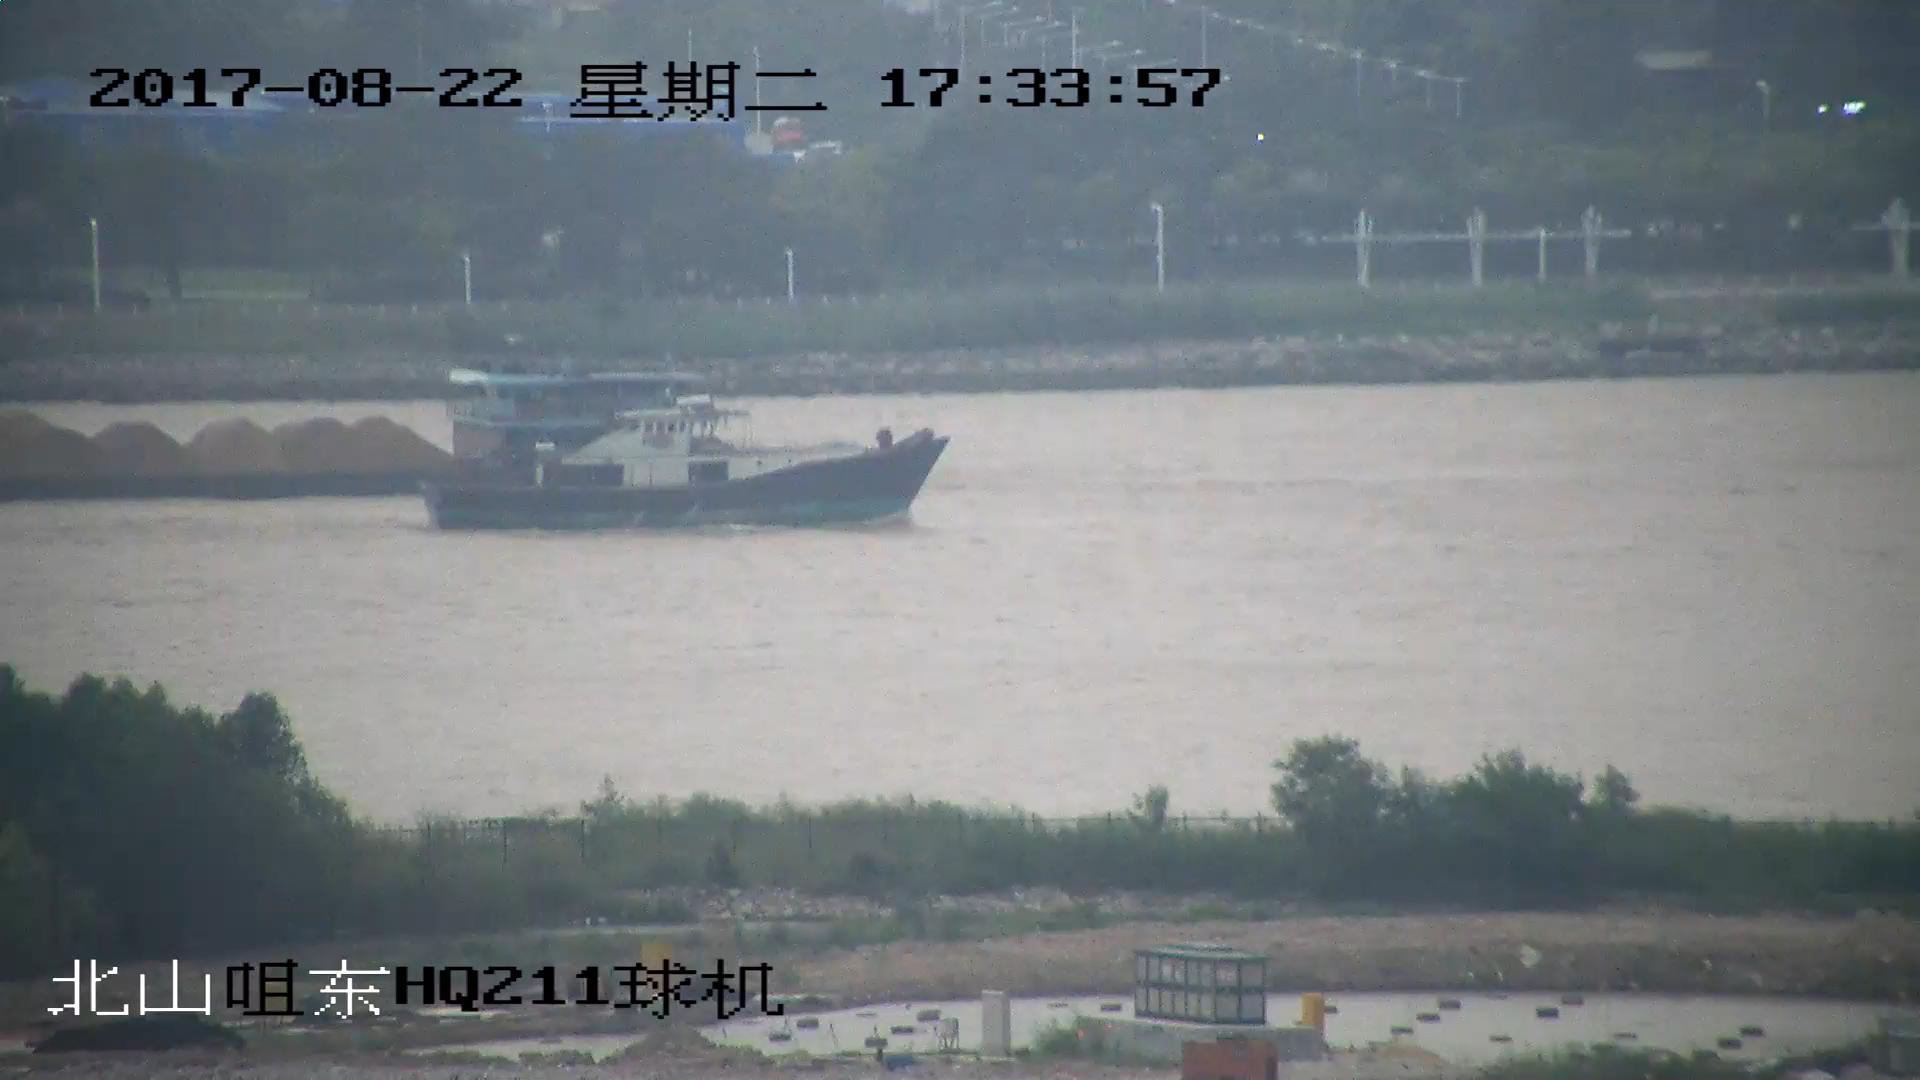fishing boat: (425, 397, 948, 533)
ore carrier: (1, 360, 727, 490)
